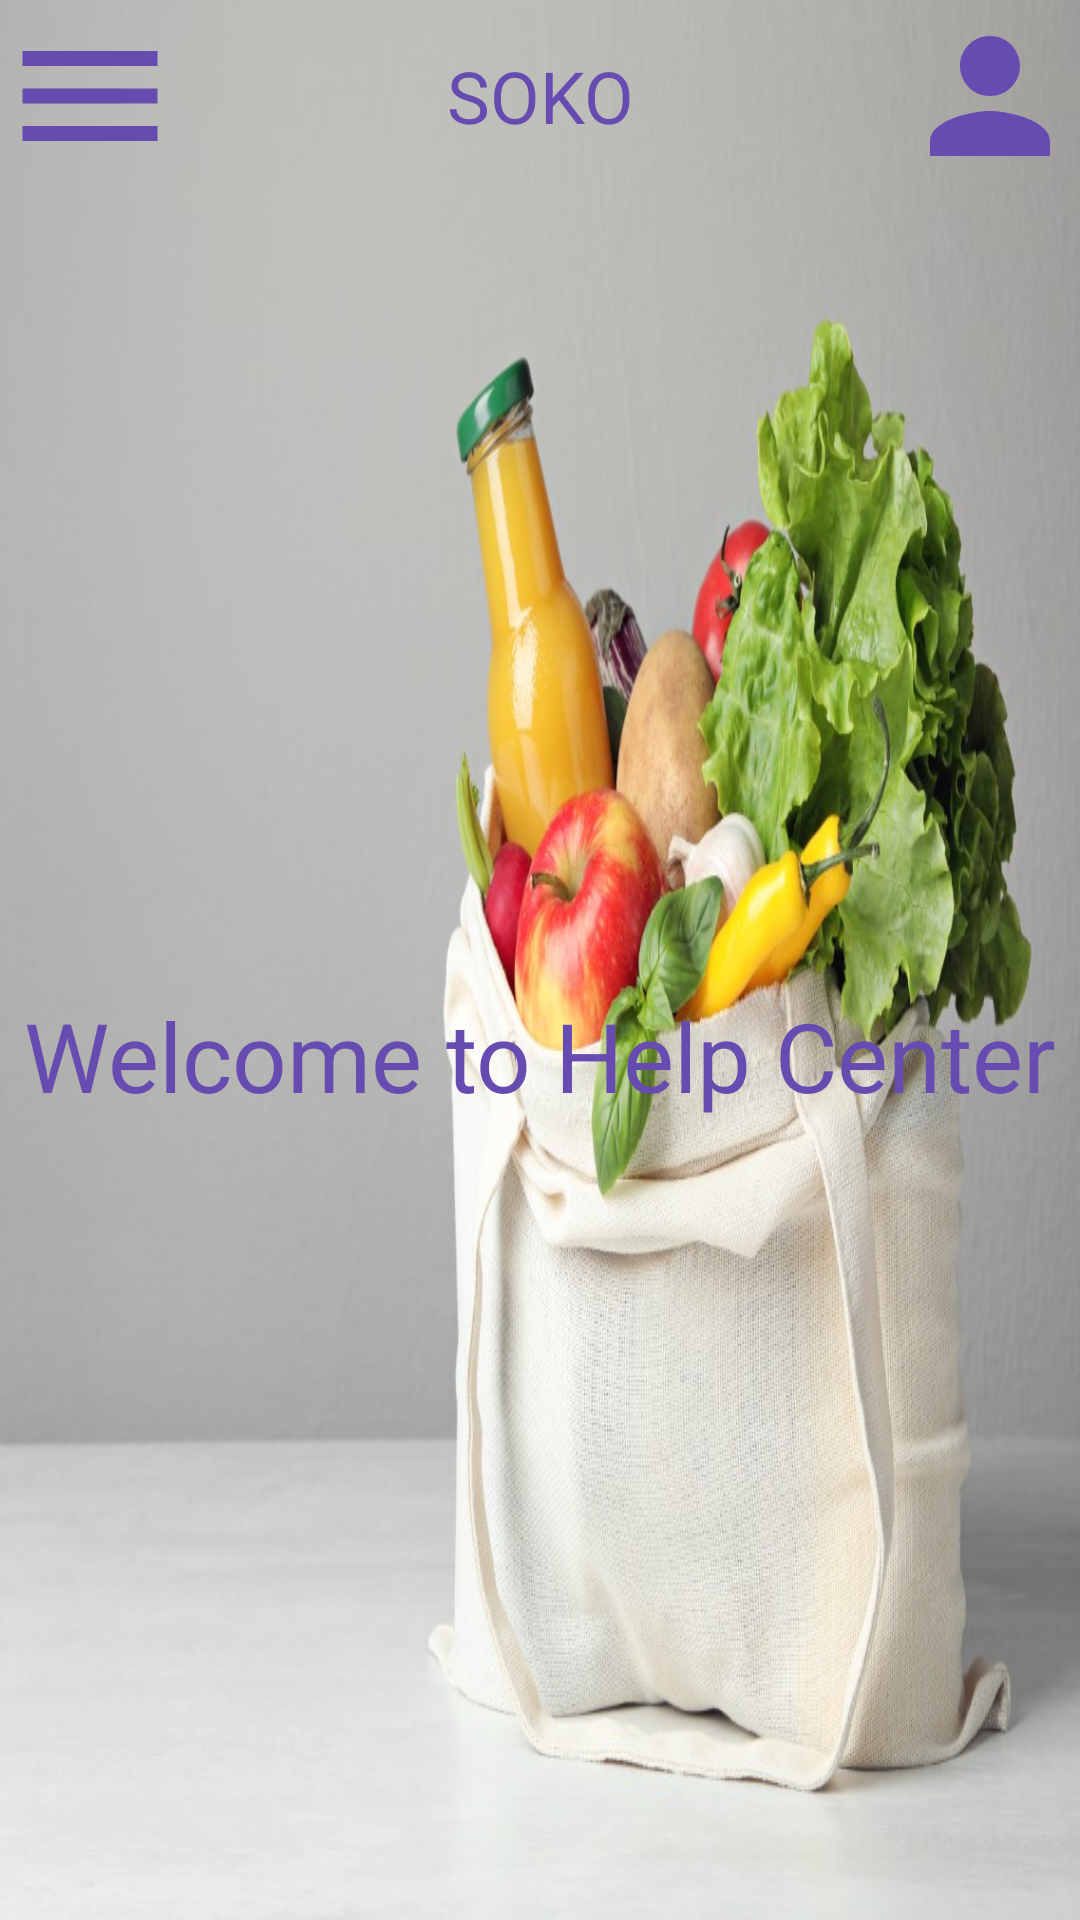

Point at icon controls on the screen. Image size 1080px×1920px, points as point (x, y).
menu: point (90, 96)
profile: point (990, 96)
